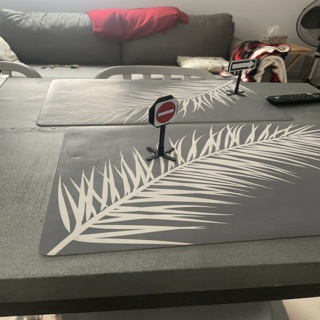sign_noentry: (154, 96, 174, 125)
sign_oneway_right: (230, 59, 255, 69)
